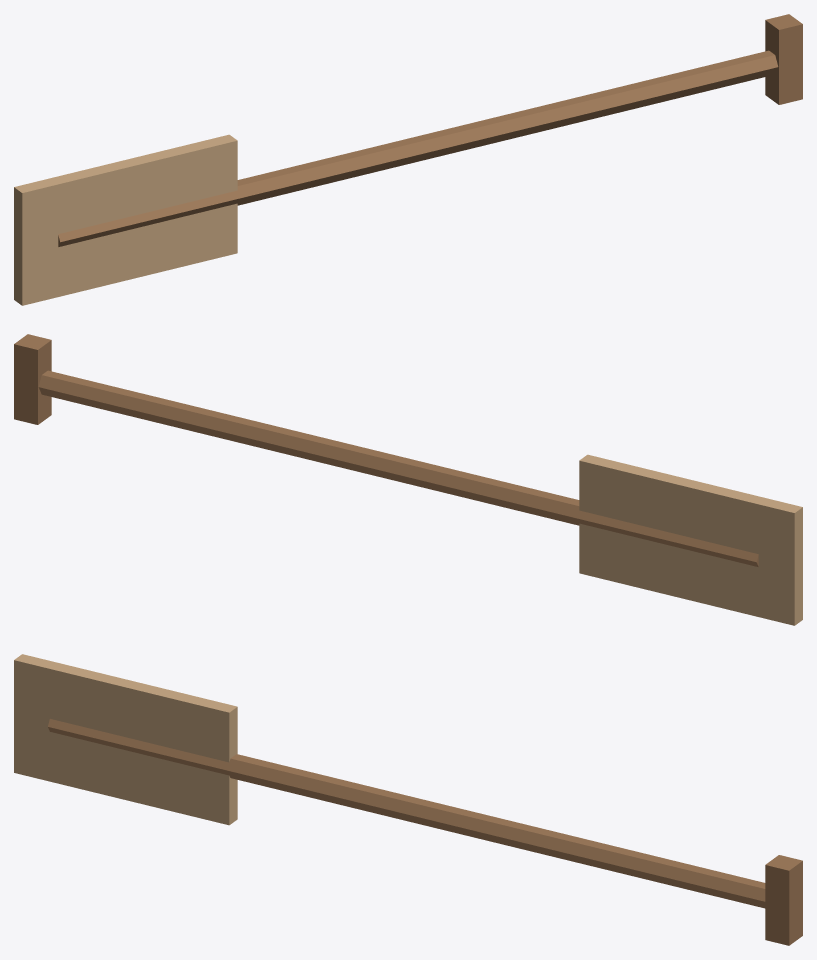
The model's file is SM_Paddle.fbx.
3 renders of one model, top to bottom at view 1: azimuth 30°, elevation 25°; view 2: azimuth 150°, elevation 25°; view 3: azimuth 330°, elevation 25°, orthographic.
Parts seen in each view (by area): view 1: SM_Paddle; view 2: SM_Paddle; view 3: SM_Paddle.
Part boxes in pixels (box(x1,y1,x2,y2)): SM_Paddle: box(14, 14, 802, 305); SM_Paddle: box(14, 334, 802, 625); SM_Paddle: box(14, 654, 802, 945).
Size of the model in its own units: 1.3 by 0.18 by 0.04.
